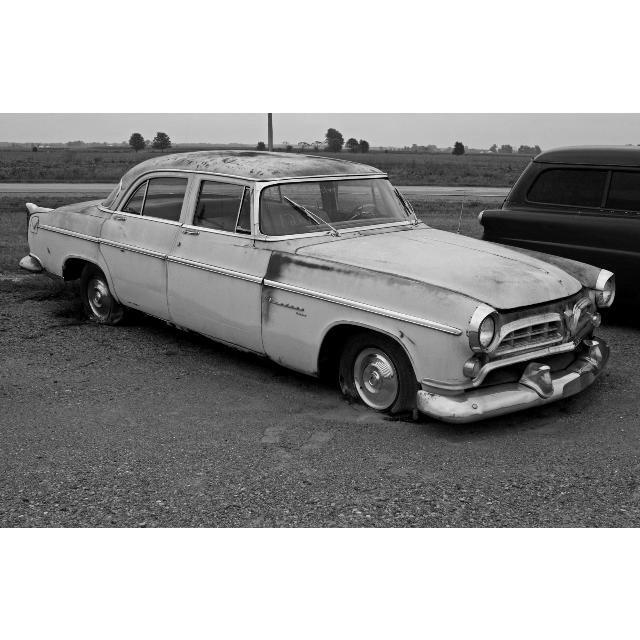bonnet-dent: (277, 234, 575, 308)
roof-dent: (153, 142, 366, 184)
